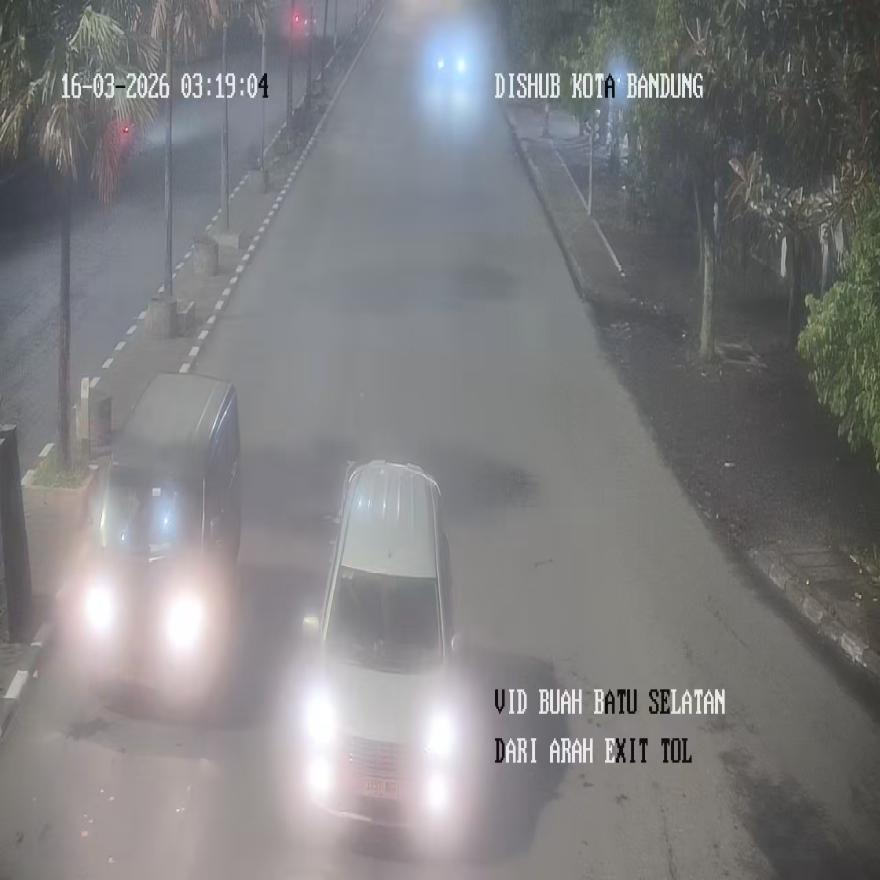Mobil: (300, 459, 464, 840), (67, 372, 242, 705)
